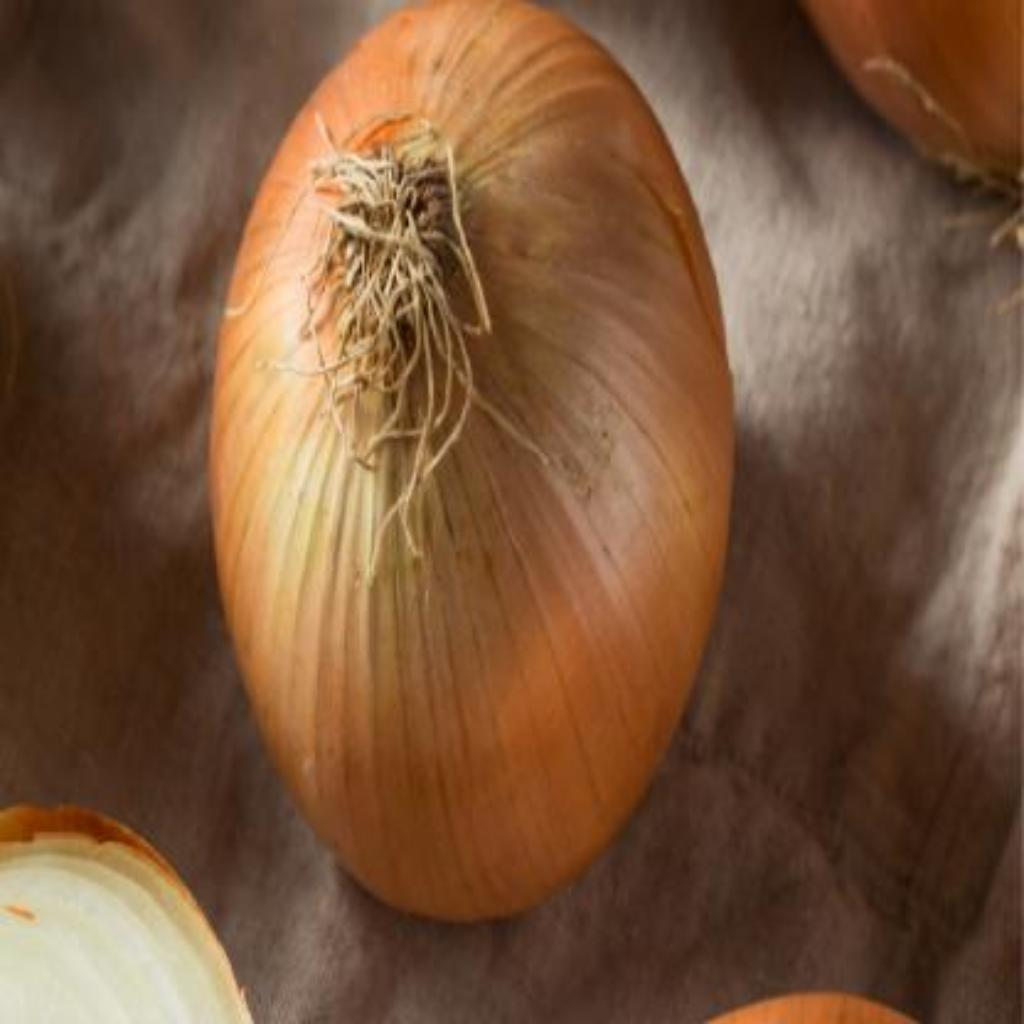Onion: (212, 0, 736, 922)
